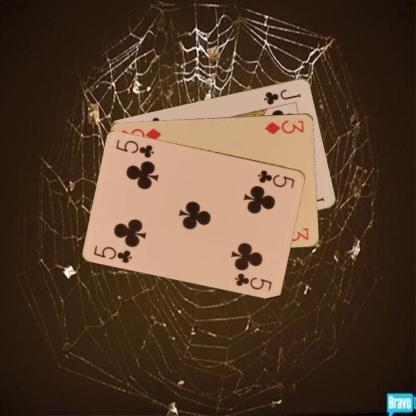3d: (262, 116, 306, 135)
5c: (255, 167, 296, 189), (92, 243, 134, 264)
Jc: (261, 86, 302, 106)
